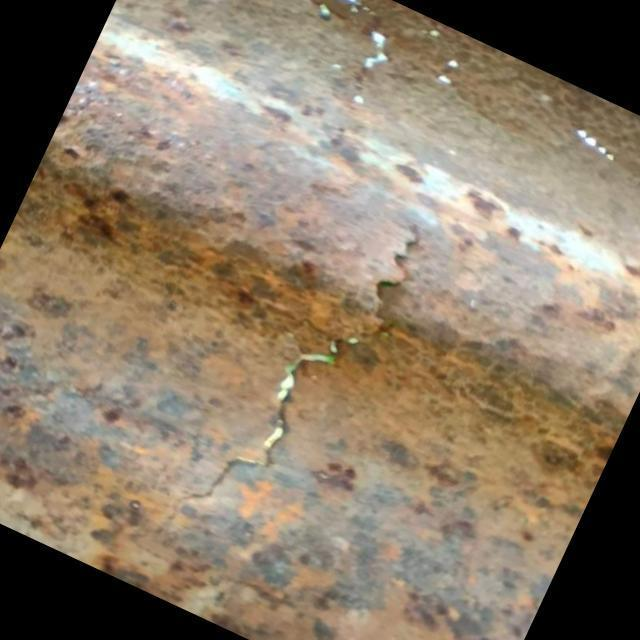defect: (132, 211, 427, 544)
